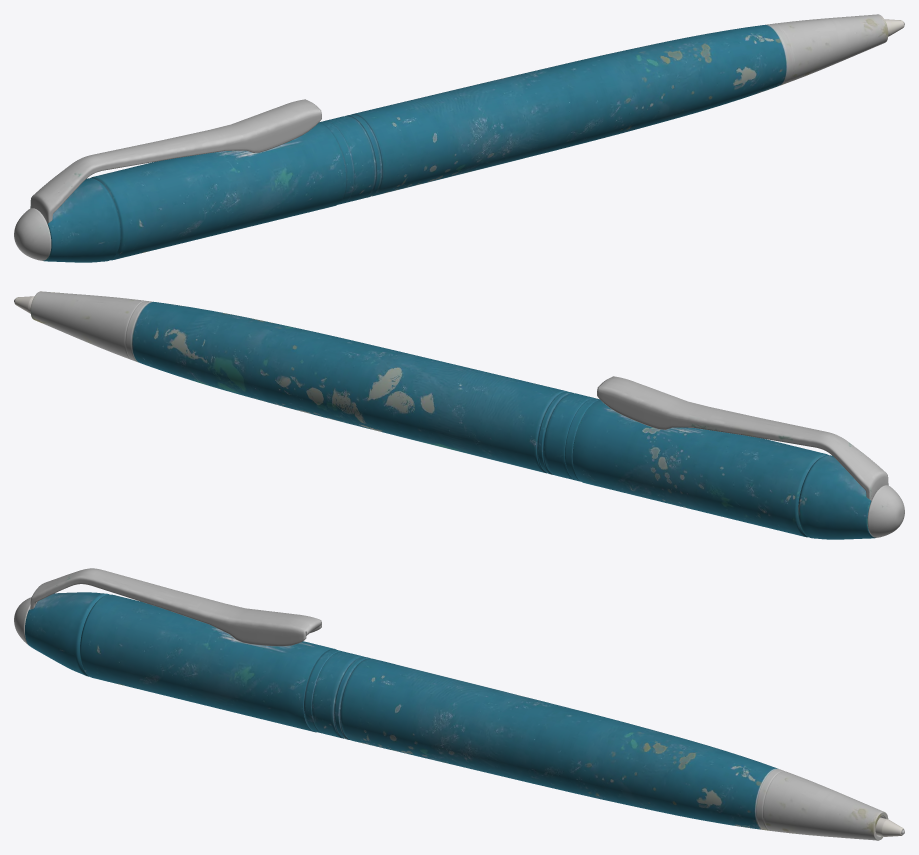
File: boligrafo_metal.glb
The picture shows the model from 3 angles, top to bottom: view 1: azimuth 30°, elevation 25°; view 2: azimuth 150°, elevation 25°; view 3: azimuth 330°, elevation 25°; orthographic projection.
Parts seen in each view (by area): view 1: pen_01_mesh_00; view 2: pen_01_mesh_00; view 3: pen_01_mesh_00.
Boxes of the visible parts, bbox=[...] form: pen_01_mesh_00: bbox=[14, 14, 904, 262]; pen_01_mesh_00: bbox=[14, 291, 904, 539]; pen_01_mesh_00: bbox=[14, 568, 904, 840].
Size of the model in its own units: 0.1601 by 0.018 by 0.0134.
1 material, 1 textured.
